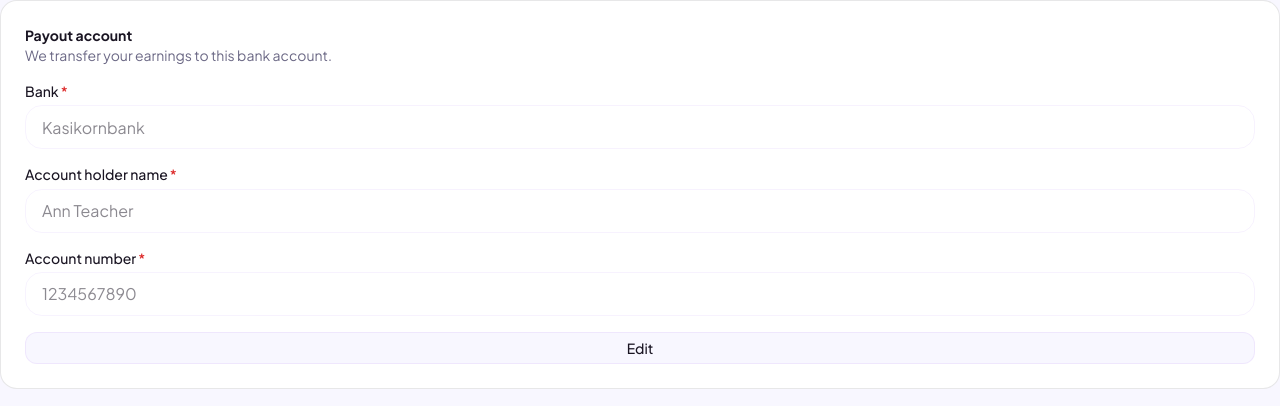
PayoutAccountForm › Cancel throws away edits and locks the form again
Click the button "Edit".
click(640, 348)  # box [25, 332, 1255, 364]
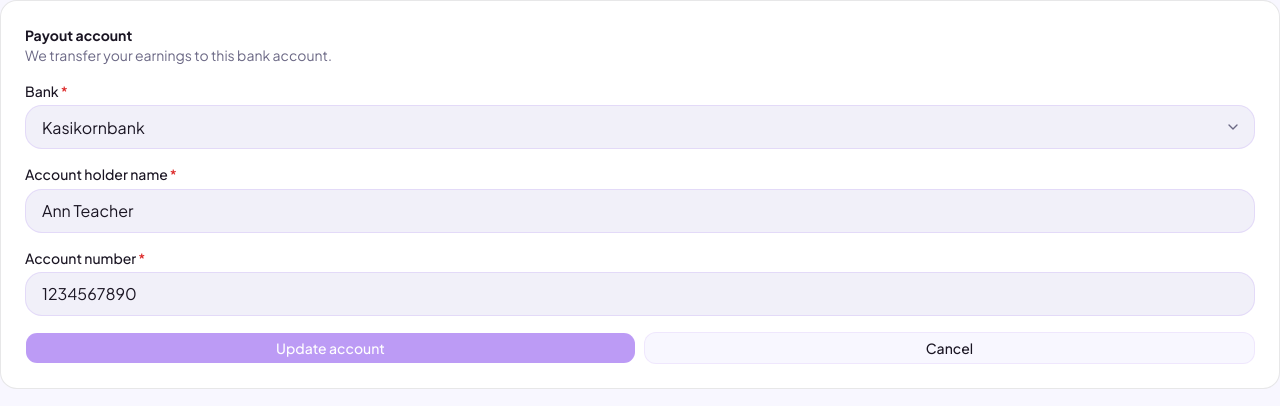
Replace the text in the field labelled "Account holder name*" with "Someone Else" at (640, 210), box [25, 188, 1255, 232]
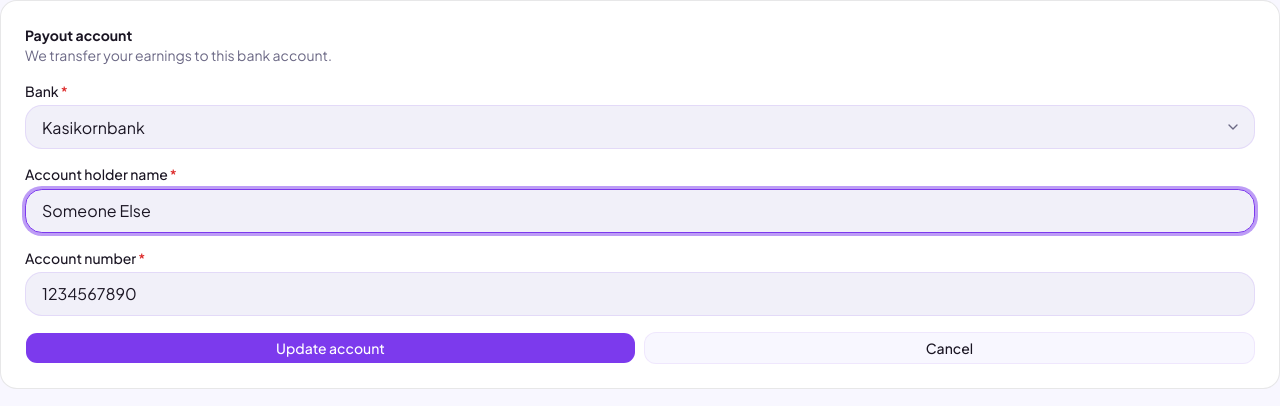
Expected: the button "Update account" is enabled, [25, 332, 636, 364]
Click the button "Cancel".
click(950, 348)  # box [644, 332, 1255, 364]
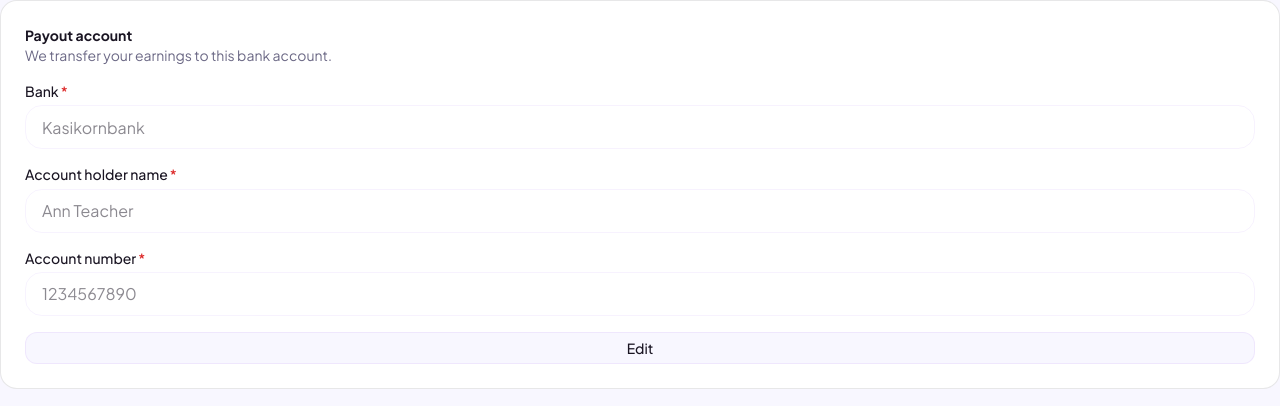
Expected: the field labelled "Account holder name*" holds "Ann Teacher", [25, 188, 1255, 232]
Expected: the field labelled "Account holder name*" is disabled, [25, 188, 1255, 232]
